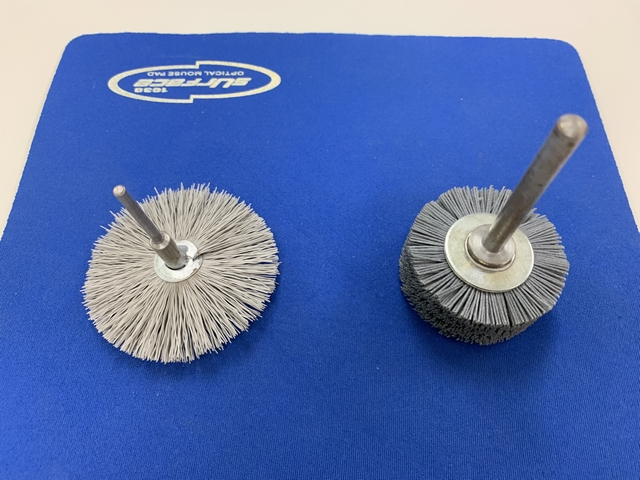TOOL: (82, 172, 289, 364), (74, 171, 286, 319), (91, 174, 256, 364), (109, 175, 273, 365)
Wheel Brush: (402, 104, 580, 357), (429, 103, 590, 349), (414, 102, 562, 348), (468, 105, 569, 347)
